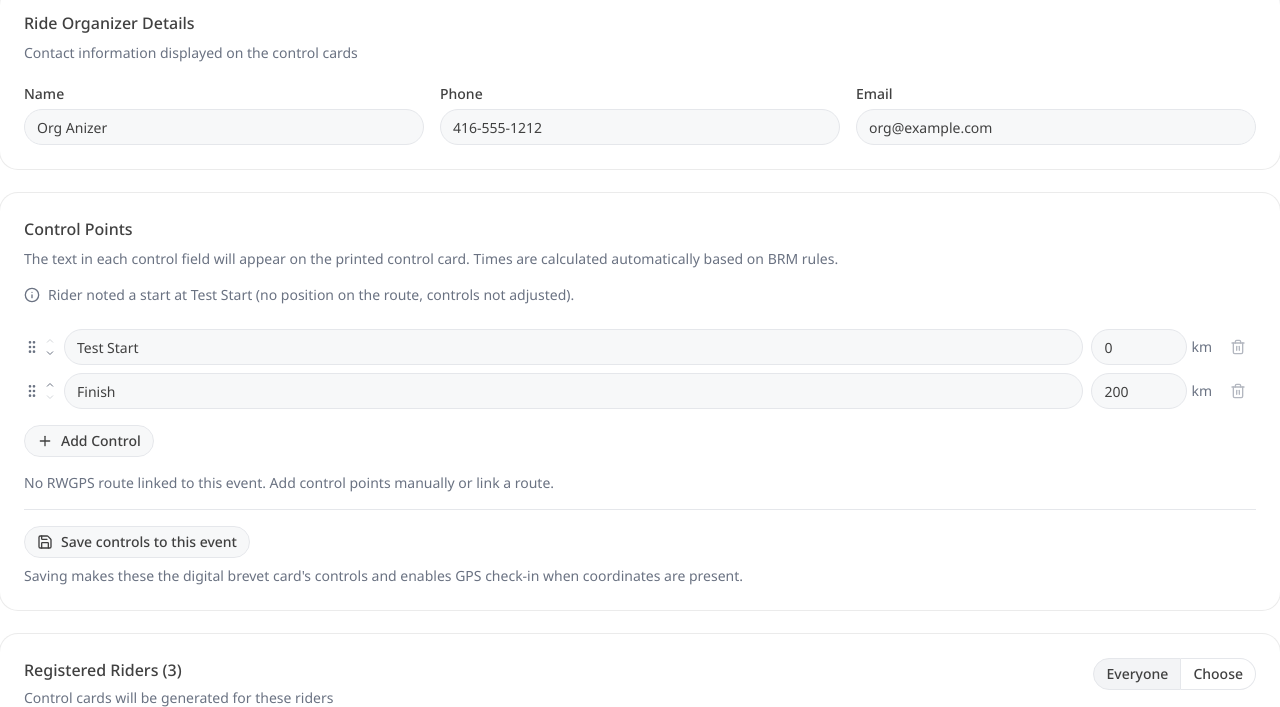
Scenario: ControlCardsForm rider selection › adds only the checked rider ids to the print URL in individual mode
What coordinates should you click on to do the following:
click the radio button labelled "Choose"
I would click on:
 (1219, 674)
Its box is top-left (1181, 658), bottom-right (1256, 690).
(page scrolled)
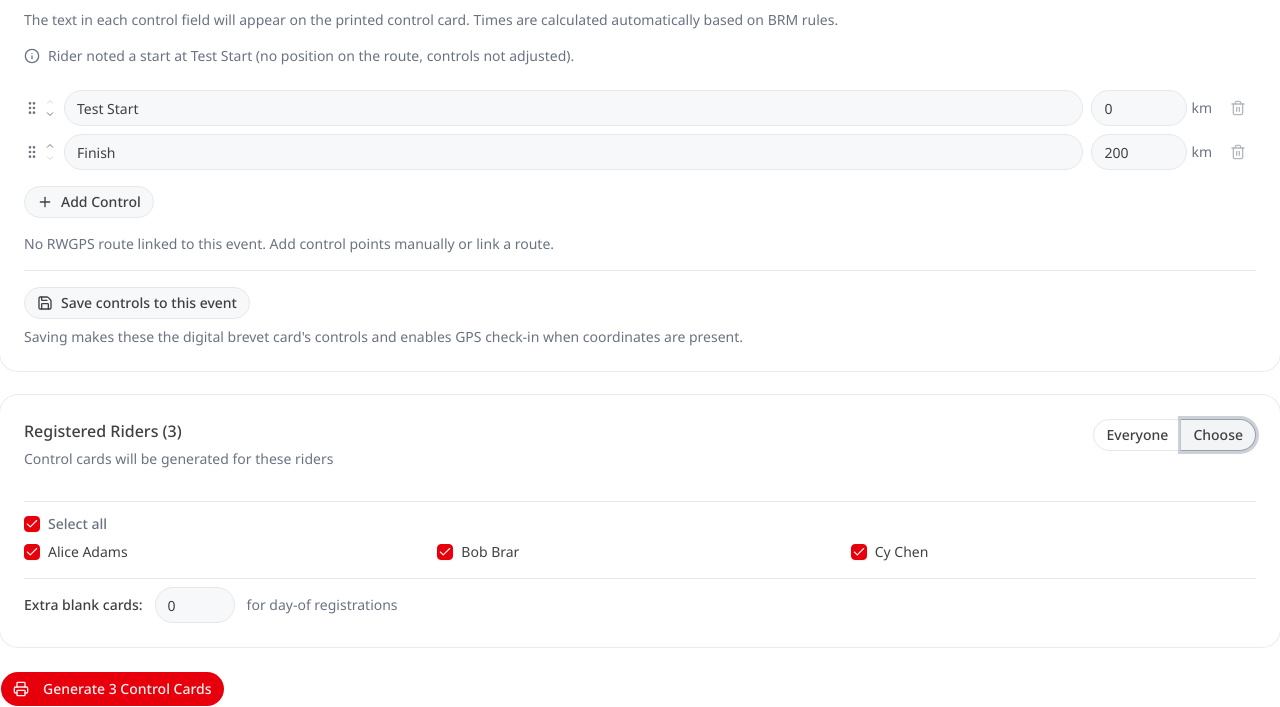
What coordinates should you click on to do the following:
click the checkbox named "Bob Brar" next to "Bob Brar"
I would click on:
 (445, 552)
Its box is top-left (437, 544), bottom-right (453, 560).
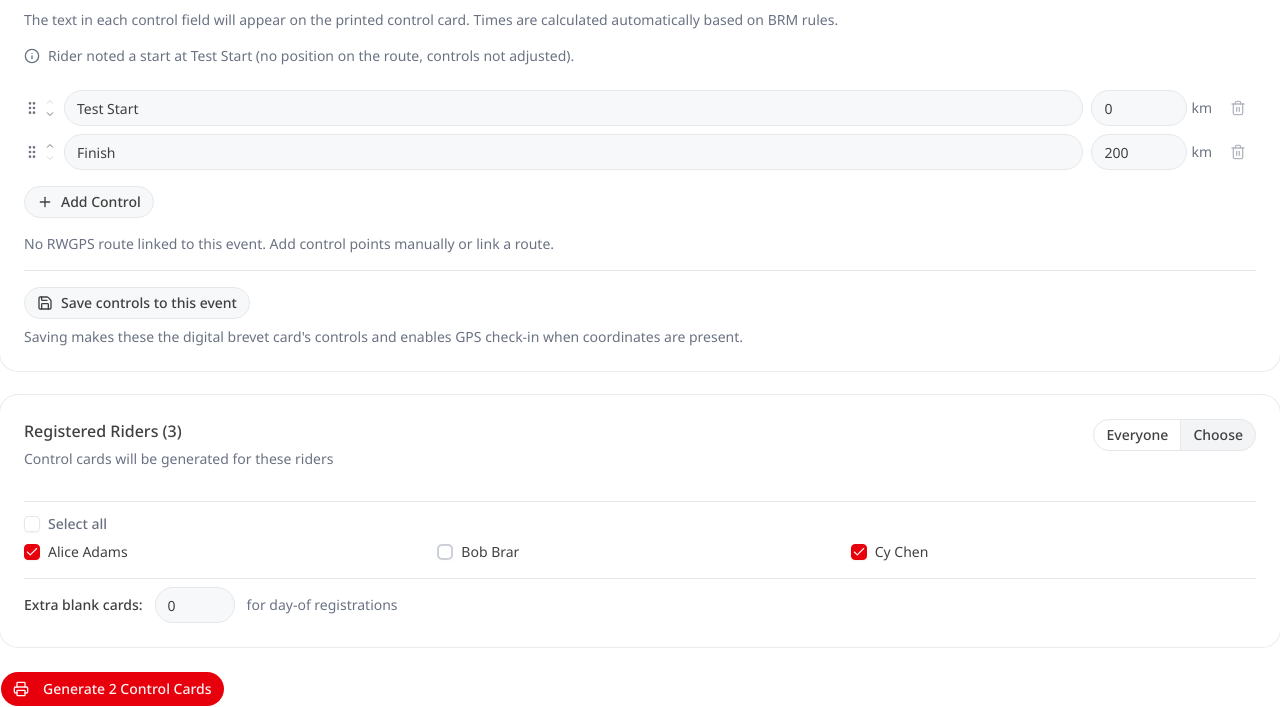
Now the link "Generate 2 Control Cards" is shown, box top-left (0, 671), bottom-right (225, 706)
